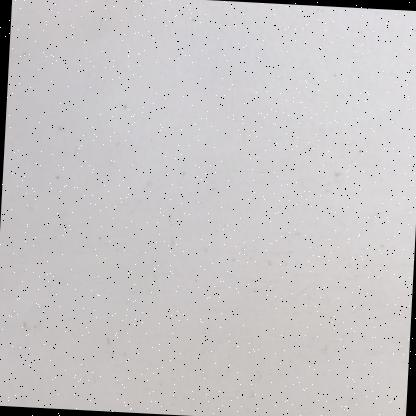Nocrack: (16, 5, 414, 406)
